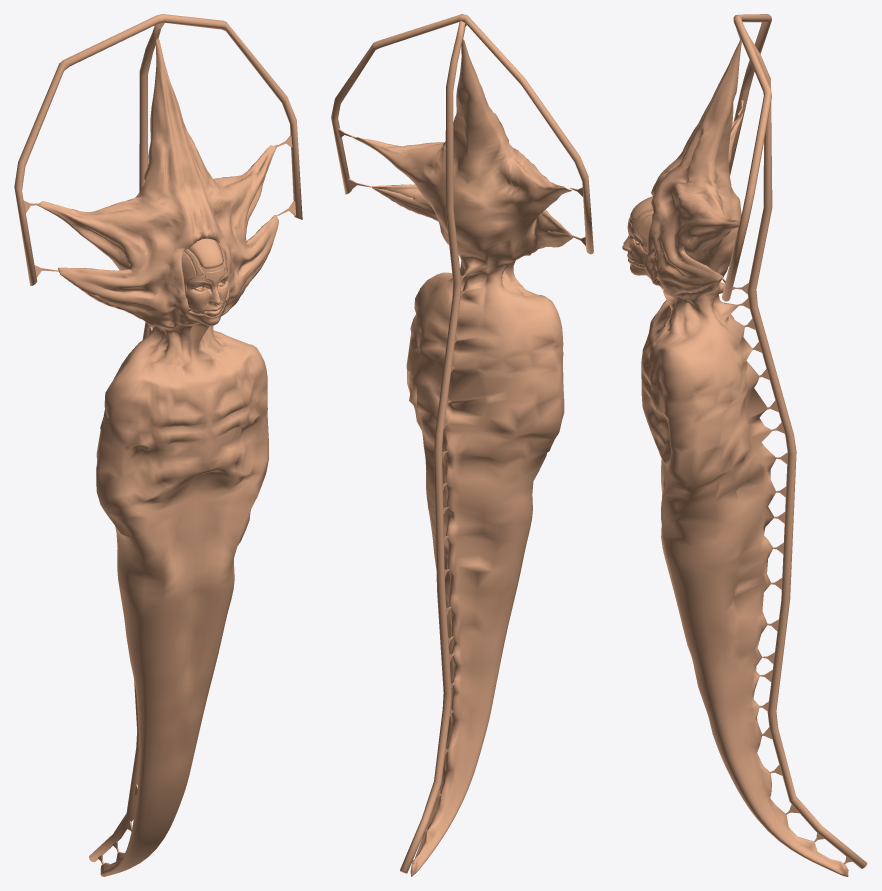
The picture shows the model from 3 angles, left to right: view 1: azimuth 30°, elevation 25°; view 2: azimuth 150°, elevation 25°; view 3: azimuth 270°, elevation 25°; orthographic projection. The views are drawn at different scales.
Parts seen in each view (by area): view 1: PolySphere; view 2: PolySphere; view 3: PolySphere.
Boxes of the visible parts, x1,y1,x2,y2 form: PolySphere: [14, 14, 302, 876]; PolySphere: [331, 14, 593, 876]; PolySphere: [622, 14, 867, 876].
Bounding box in the file's own units: 75.29 × 231 × 59.65.
